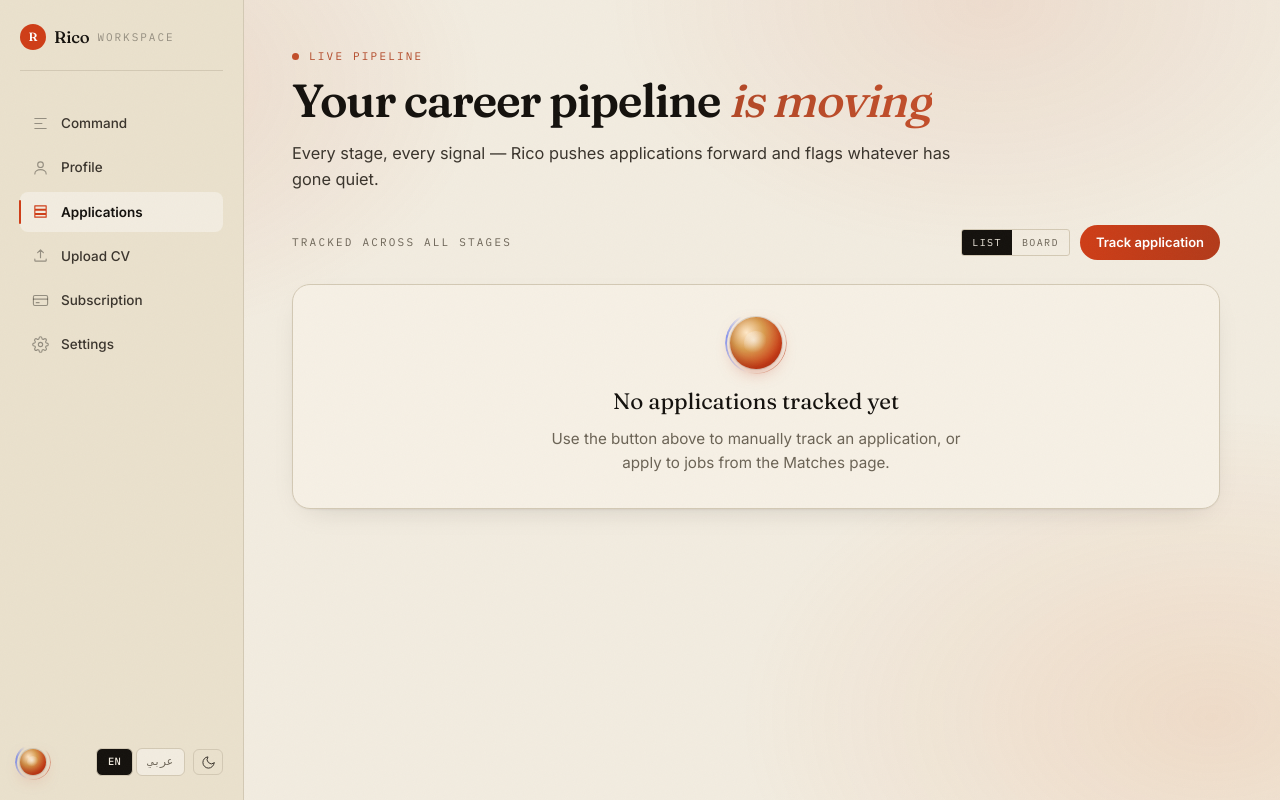
Scenario: Flow manual application tracking › shows error state when submission fails
Click the button "Track application" at (1150, 242), box top-left (1080, 225), bottom-right (1220, 260)
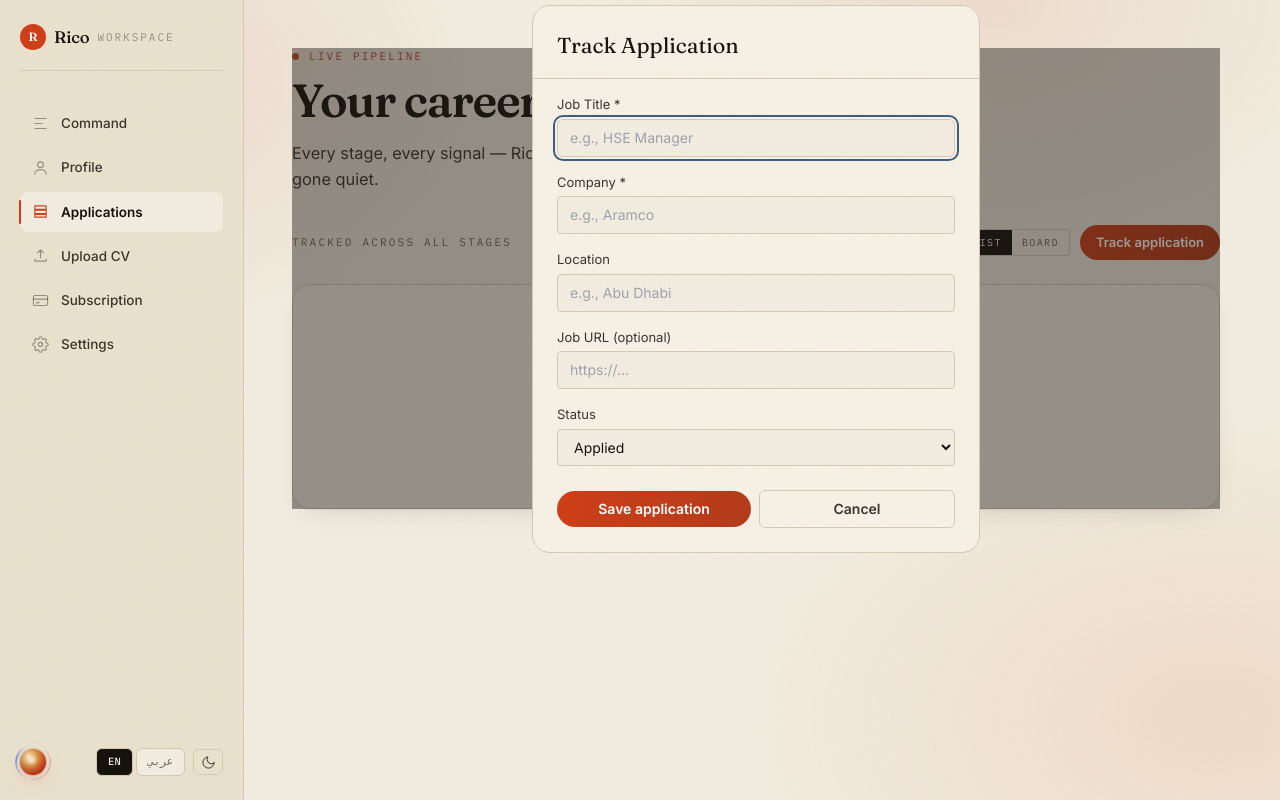
Type "Senior Manager" into the field labelled "Job Title *" at (756, 138), box top-left (557, 118), bottom-right (955, 156)
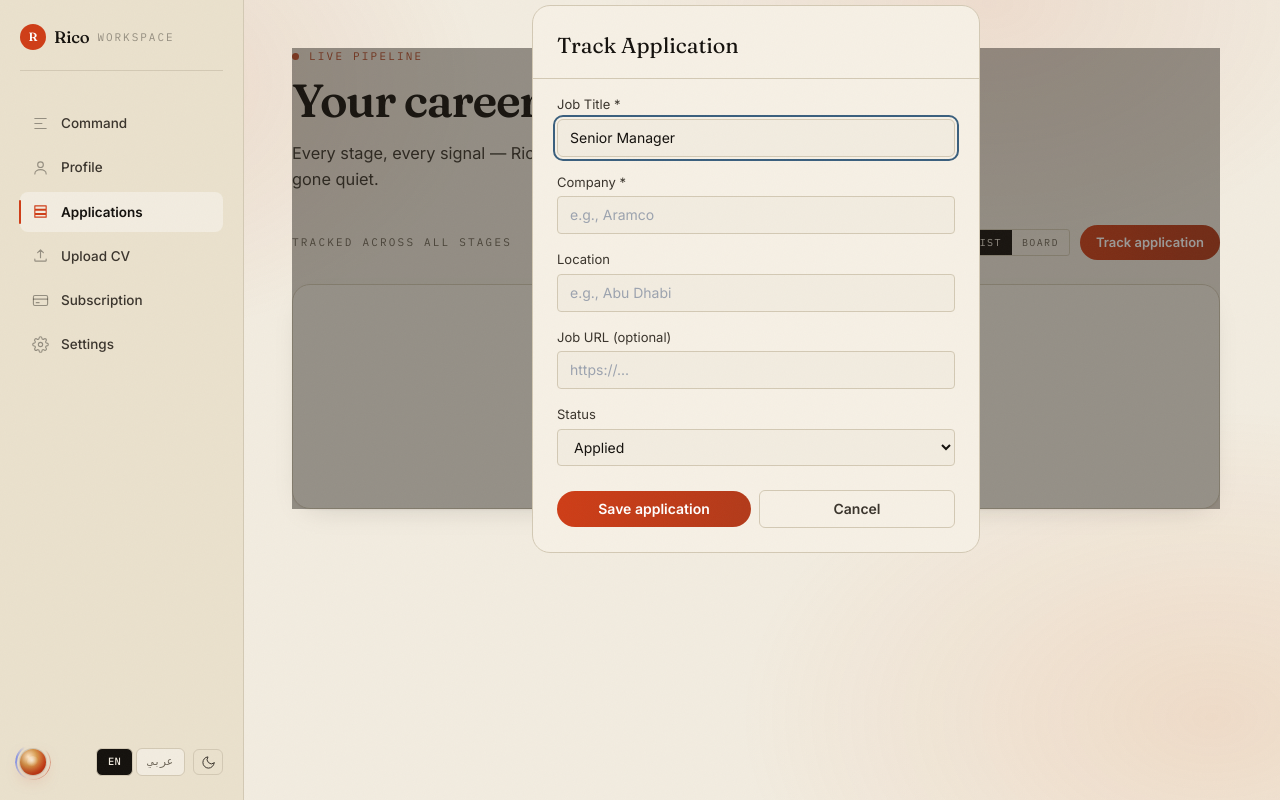
Type "Test Company" into the field labelled "Company *" at (756, 215), box top-left (557, 196), bottom-right (955, 234)
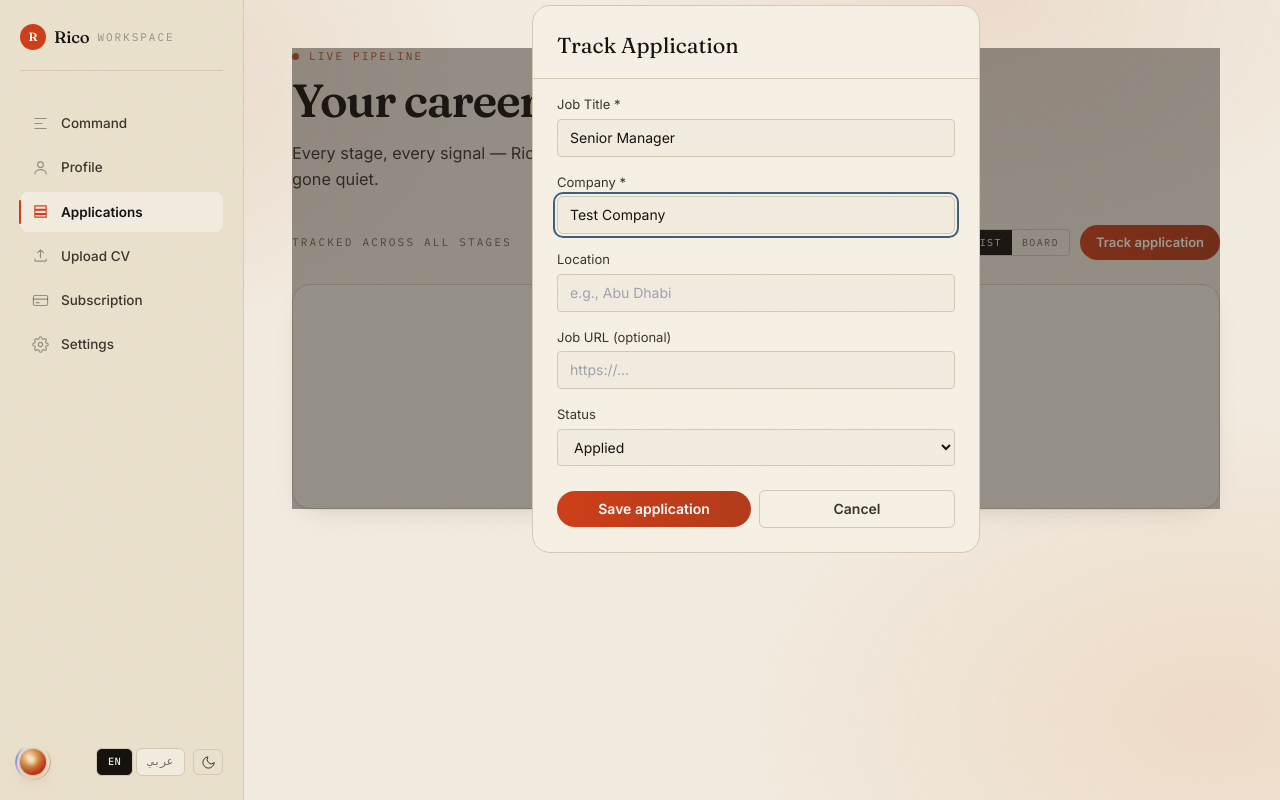
Click the button "Save application" at (654, 508), box top-left (557, 490), bottom-right (751, 526)
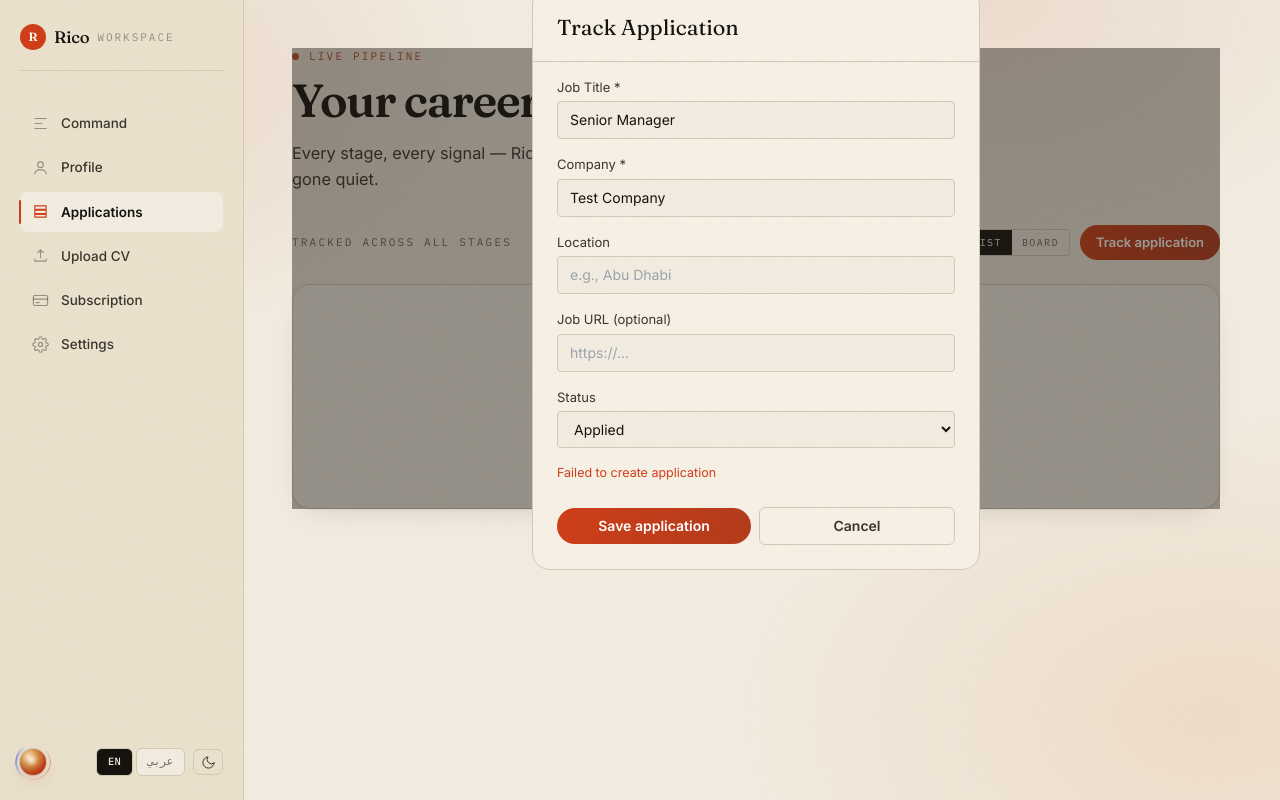
Now the message "Failed to create application" is shown, box top-left (557, 465), bottom-right (716, 480)
